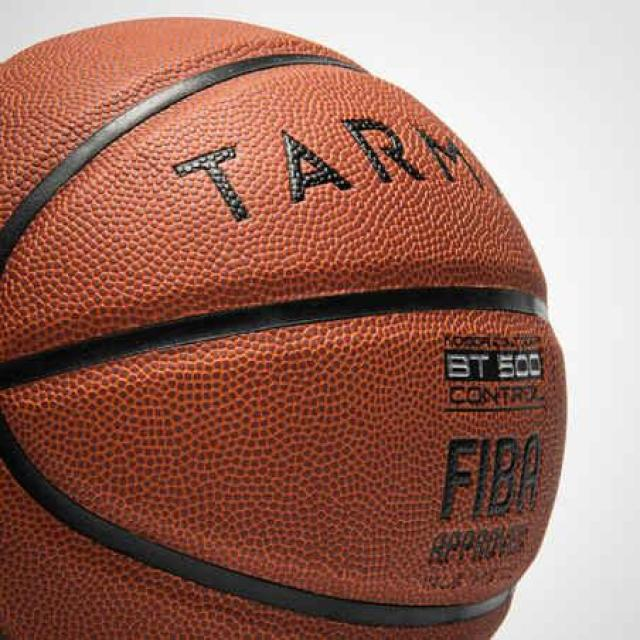ball: (0, 12, 569, 640)
